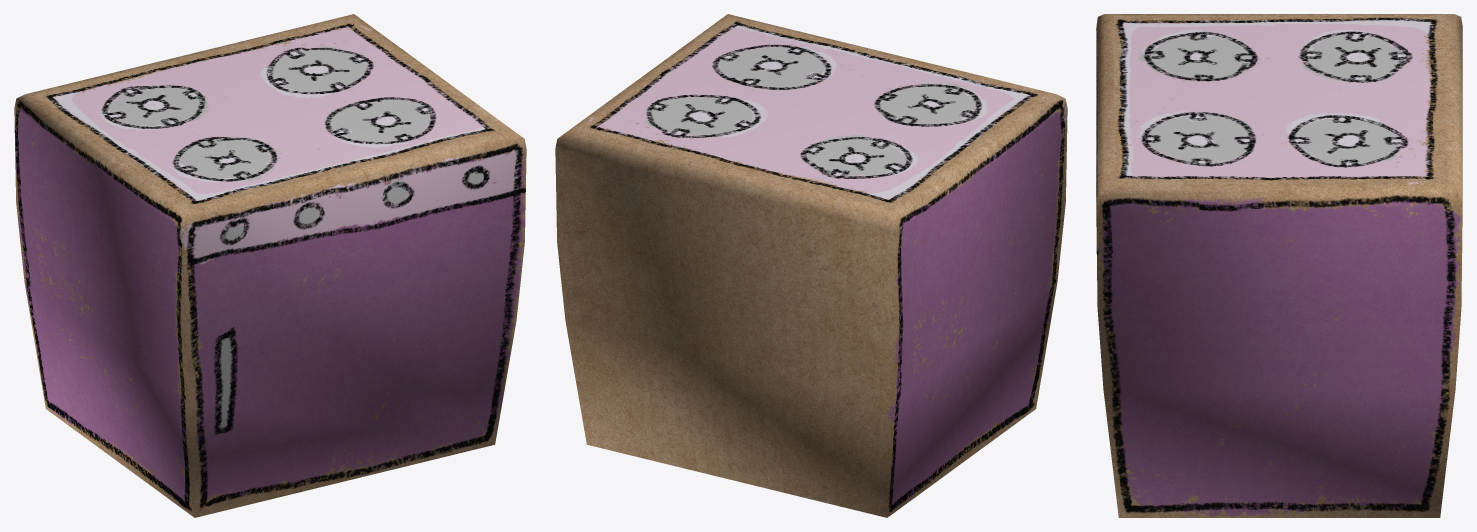
The model's file is 20s_Stove.fbx.
3 views of the same model, side by side, from view 1: azimuth 30°, elevation 25°; view 2: azimuth 150°, elevation 25°; view 3: azimuth 270°, elevation 25° (orthographic). The views are drawn at different scales.
Parts seen in each view (by area): view 1: 20s_Stove; view 2: 20s_Stove; view 3: 20s_Stove.
Boxes of the visible parts, x1=… form: 20s_Stove: x1=14, y1=14, x2=526, y2=517; 20s_Stove: x1=555, y1=14, x2=1067, y2=517; 20s_Stove: x1=1096, y1=14, x2=1462, y2=517.
Size of the model in its own units: 215 by 188 by 184.
